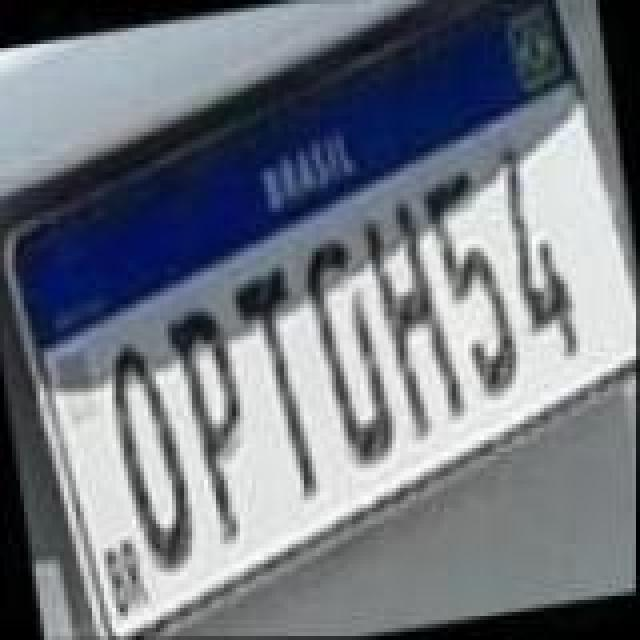4: (494, 138, 586, 366)
5: (412, 160, 524, 408)
D: (298, 226, 406, 470)
H: (358, 186, 470, 442)
O: (102, 332, 206, 576)
P: (158, 296, 262, 548)
T: (222, 258, 322, 510)
